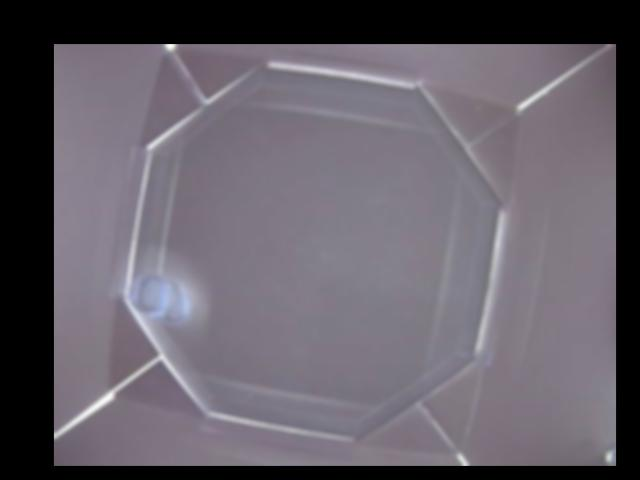Pebble: (136, 276, 186, 322)
